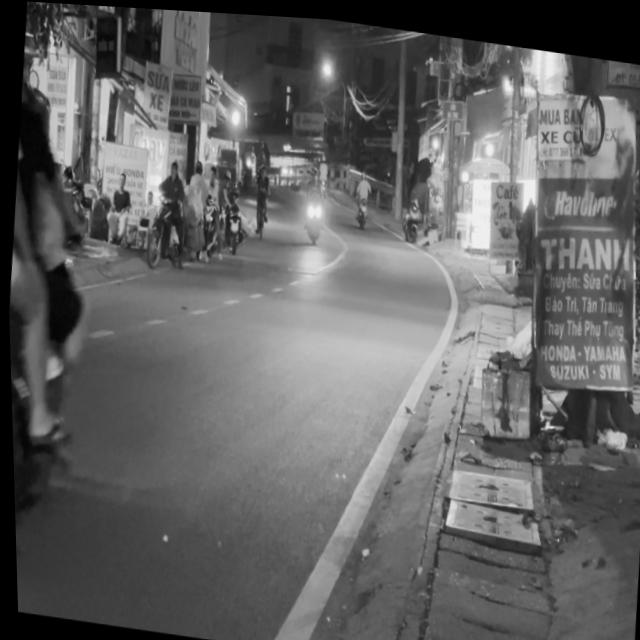licenseplate: (1, 46, 111, 583)
